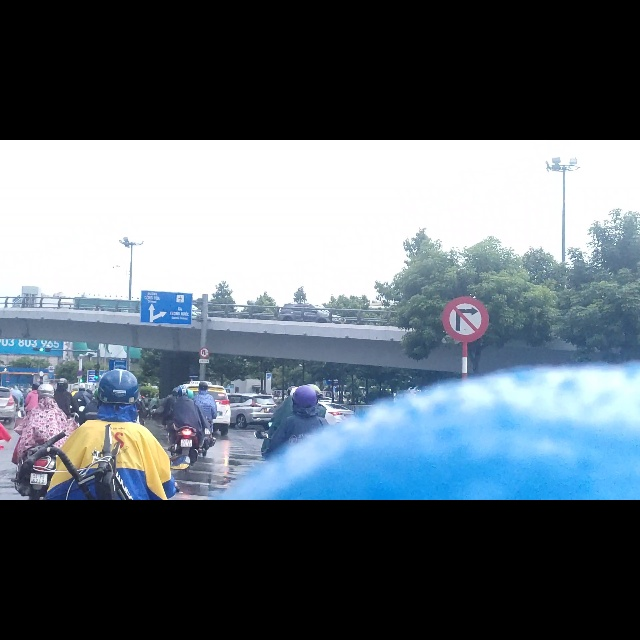bien_cam: (442, 276, 490, 360), (199, 367, 209, 388)
